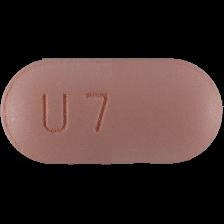23155-117: (0, 0, 224, 224)
